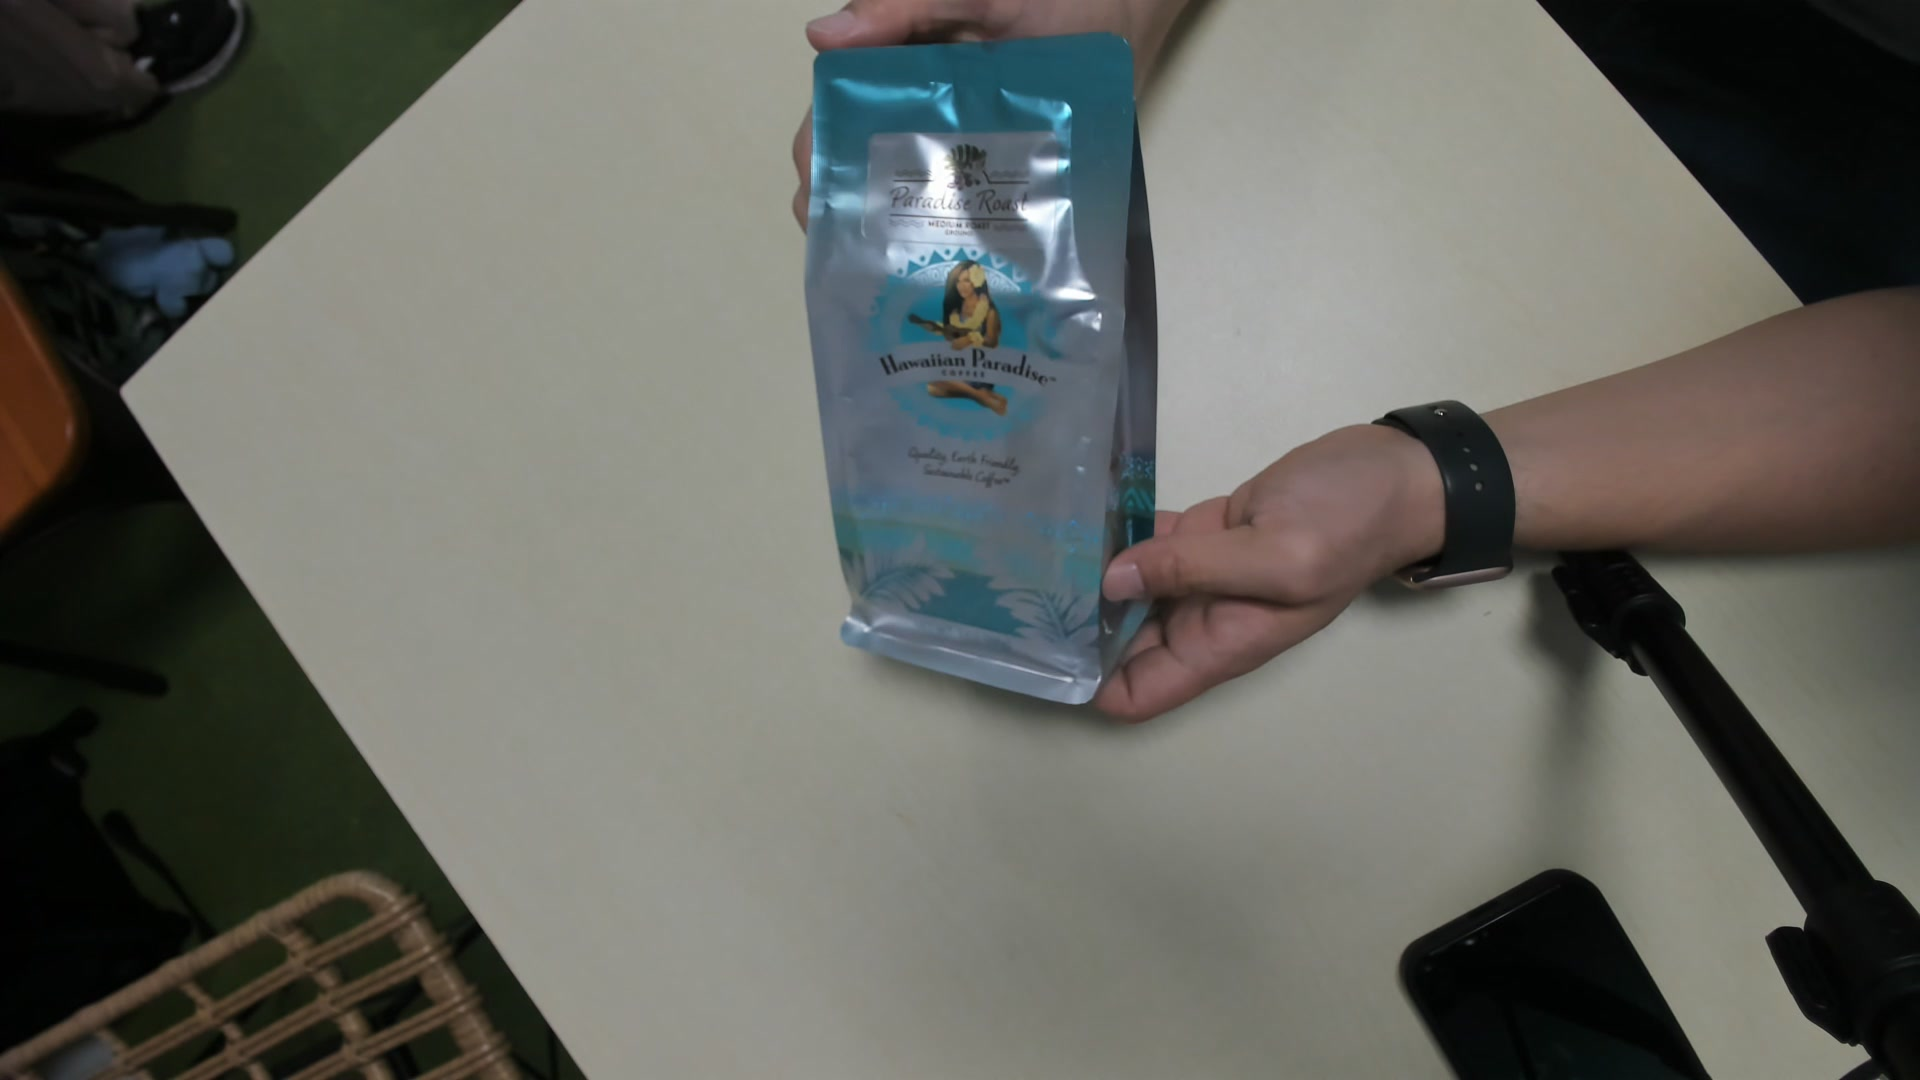Coffee_100-199g_NonHalal_NonHealthy: (794, 33, 1160, 713)
